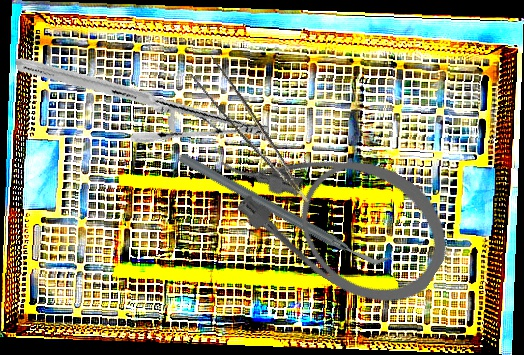Cannula: (199, 92, 470, 327)
Chopper: (176, 91, 394, 328)
Needle Holder: (15, 4, 270, 191)
Tissue Forceps: (186, 50, 310, 219)
